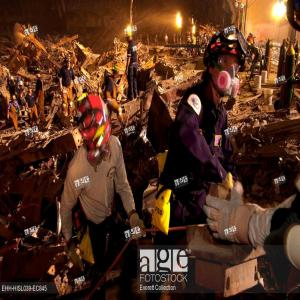blue: (18, 79, 21, 85)
red: (204, 29, 247, 99), (77, 95, 113, 165), (65, 55, 73, 69), (12, 95, 17, 104), (54, 65, 57, 70)
white: (21, 81, 24, 89), (12, 77, 15, 83)
yellow: (126, 31, 133, 43), (35, 69, 42, 79)
